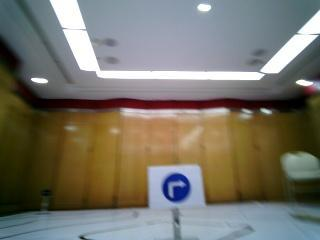right: (149, 167, 203, 208)
